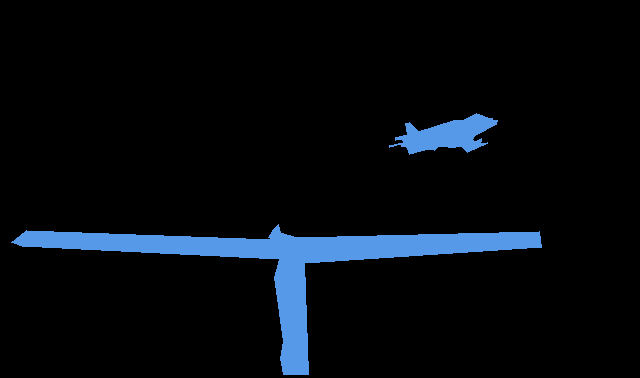Airplane: (11, 224, 542, 374), (389, 113, 498, 154)
